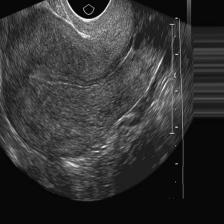no-pcos: (1, 26, 166, 183)
